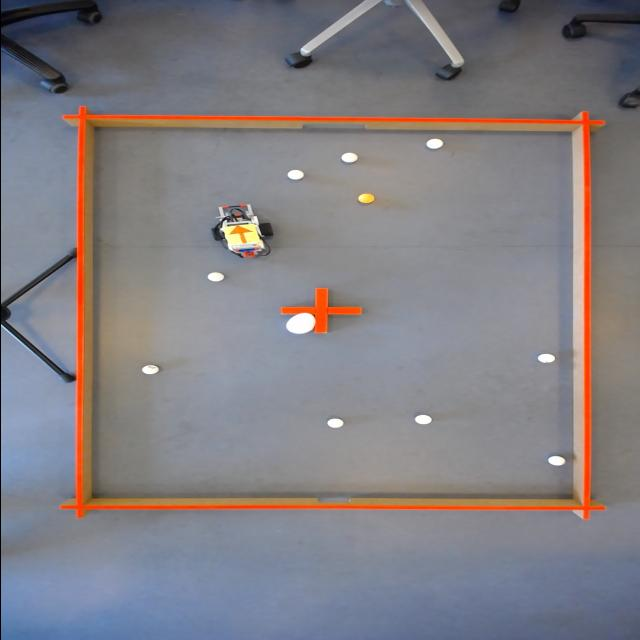cross: (276, 285, 361, 334)
egg: (283, 312, 317, 336)
orange_ball: (354, 192, 378, 206)
robot: (221, 220, 260, 249)
white_ball: (323, 416, 347, 431), (543, 453, 567, 468), (203, 270, 227, 284), (533, 352, 558, 364), (422, 138, 446, 150), (138, 364, 161, 376), (336, 151, 359, 163), (412, 414, 434, 426), (283, 168, 304, 180)
